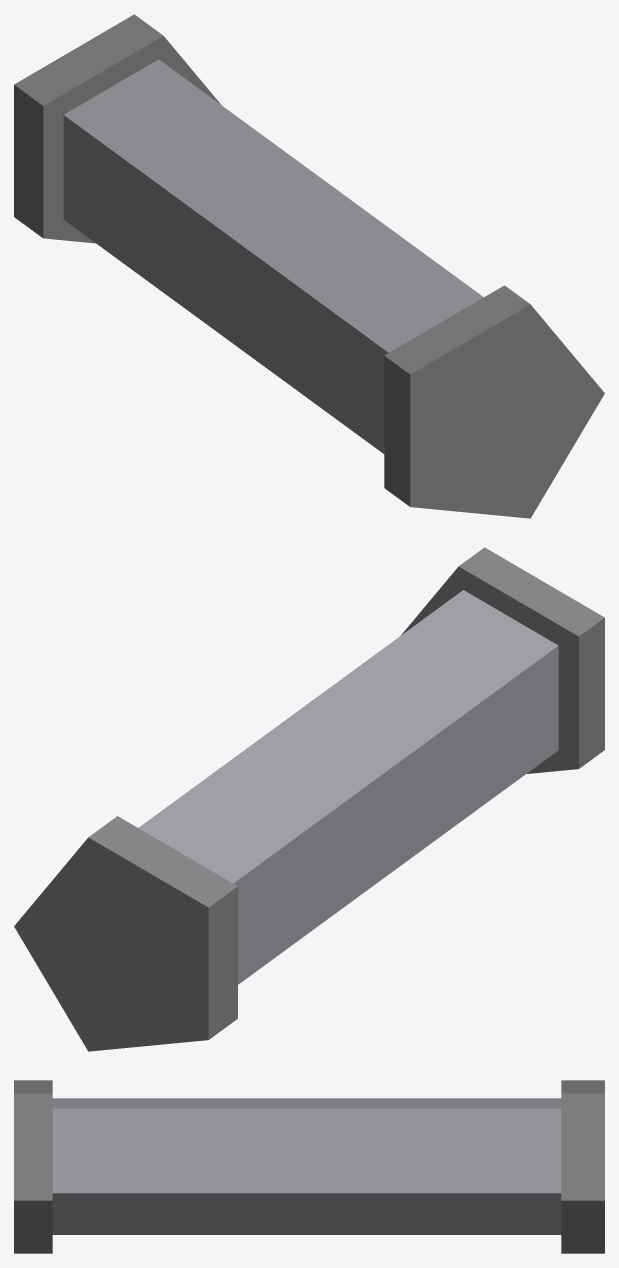
Rendered from TuberiaChica_RectaCorta.fbx.
3 renders of one model, top to bottom at view 1: azimuth 30°, elevation 25°; view 2: azimuth 150°, elevation 25°; view 3: azimuth 270°, elevation 25°, orthographic. The views are drawn at different scales.
Parts seen in each view (by area): view 1: TuberiaCortaHorizontal; view 2: TuberiaCortaHorizontal; view 3: TuberiaCortaHorizontal.
Boxes of the visible parts, bbox=[...] form: TuberiaCortaHorizontal: bbox=[14, 14, 604, 518]; TuberiaCortaHorizontal: bbox=[14, 547, 604, 1051]; TuberiaCortaHorizontal: bbox=[14, 1080, 604, 1253].
Size of the model in its own units: 0.3698 by 0.3888 by 1.3.
